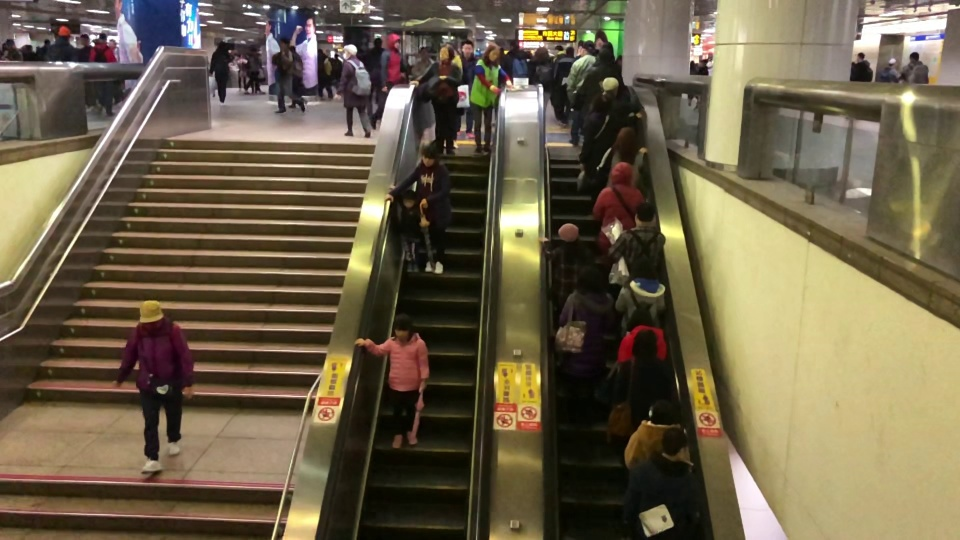person_head: (660, 426, 689, 462), (610, 125, 638, 158), (631, 328, 658, 359), (138, 298, 164, 330), (624, 306, 654, 333), (609, 161, 637, 188), (577, 263, 602, 293), (648, 398, 675, 425), (629, 256, 656, 282), (633, 200, 657, 229), (392, 312, 413, 342), (558, 220, 580, 243), (420, 143, 439, 167), (589, 93, 613, 111), (601, 75, 619, 97), (400, 186, 417, 208), (483, 42, 500, 63), (598, 41, 615, 62), (579, 39, 596, 57), (342, 43, 358, 62), (439, 43, 455, 62), (386, 32, 401, 51), (533, 46, 549, 63), (460, 39, 474, 58), (57, 25, 72, 41), (418, 46, 430, 61), (79, 32, 91, 46), (278, 37, 290, 50), (96, 32, 108, 44), (909, 50, 919, 64), (5, 38, 16, 50), (216, 39, 227, 51), (553, 42, 564, 54), (372, 38, 383, 48), (509, 39, 519, 50), (565, 45, 575, 56), (856, 52, 865, 62), (888, 58, 897, 68), (248, 49, 258, 55)
person_vbox: (112, 299, 196, 475), (549, 263, 616, 422), (354, 312, 430, 448), (621, 425, 704, 540), (385, 145, 452, 275), (613, 328, 674, 445), (410, 42, 462, 155), (591, 160, 646, 254), (608, 200, 667, 286), (470, 43, 513, 155), (623, 399, 690, 470), (539, 223, 592, 310), (578, 95, 628, 182), (615, 255, 666, 339), (368, 32, 406, 130), (334, 43, 372, 138), (596, 126, 649, 192), (574, 41, 624, 106), (387, 182, 422, 273), (615, 307, 667, 367), (88, 32, 120, 117), (270, 38, 305, 115), (455, 39, 477, 140), (566, 41, 598, 105), (554, 46, 577, 125), (528, 47, 554, 113), (207, 41, 231, 106), (78, 32, 97, 113), (364, 37, 386, 105), (499, 38, 532, 80), (45, 25, 79, 61), (243, 48, 267, 97), (899, 52, 929, 85), (410, 44, 435, 77), (850, 51, 873, 82), (877, 56, 900, 83), (3, 38, 24, 62)
